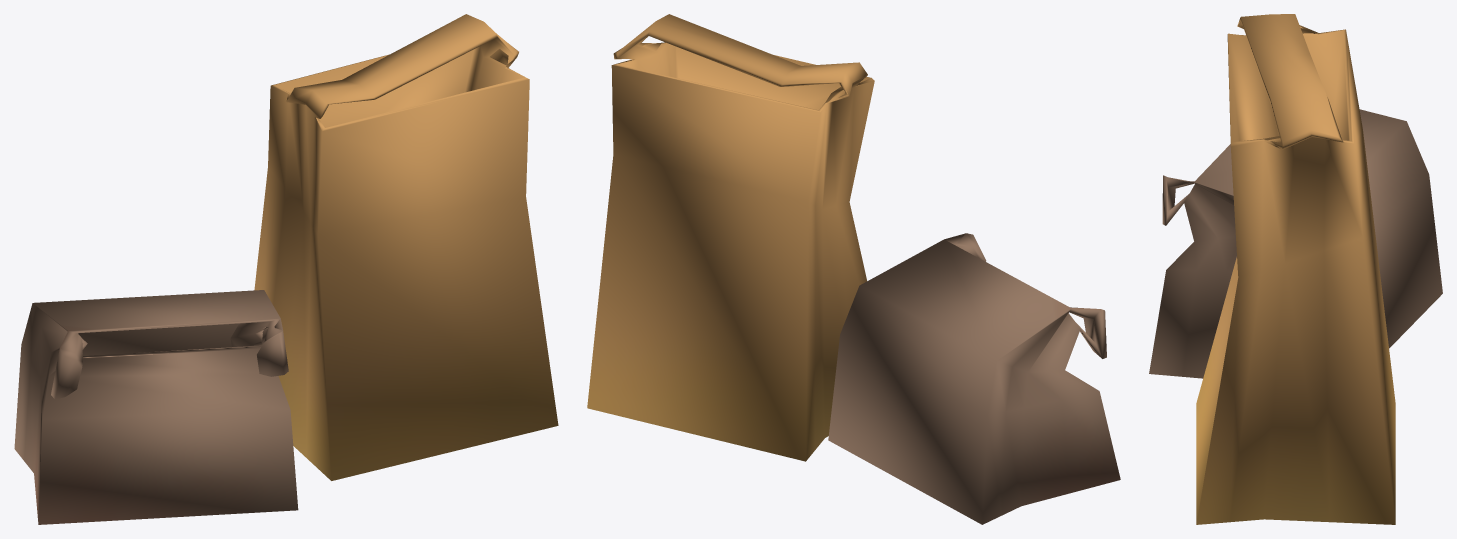
The model's file is PaperBags_everywhere_v1.fbx.
3 views of the same model, side by side, from view 1: azimuth 30°, elevation 25°; view 2: azimuth 150°, elevation 25°; view 3: azimuth 270°, elevation 25° (orthographic). The views are drawn at different scales.
Visible parts, largest first — view 1: Cube, Cube.001; view 2: Cube, Cube.001; view 3: Cube, Cube.001.
Boxes of the visible parts, <box> form: Cube: <box>254,14,558,480</box>; Cube.001: <box>14,290,298,524</box>; Cube: <box>587,14,874,461</box>; Cube.001: <box>828,233,1120,524</box>; Cube: <box>1196,14,1395,524</box>; Cube.001: <box>1149,109,1442,378</box>.
Bounding box in the file's own units: 77.24 × 56.54 × 36.41.
